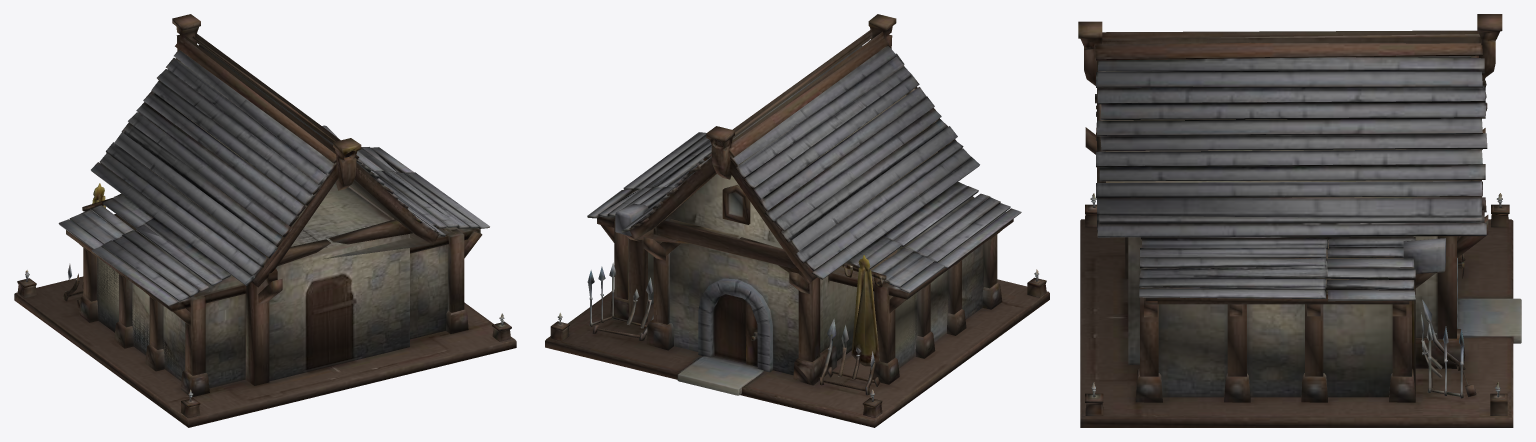
The model's file is barrosan_war_hall.glb.
3 views of the same model, side by side, from view 1: azimuth 30°, elevation 25°; view 2: azimuth 150°, elevation 25°; view 3: azimuth 270°, elevation 25° (orthographic). The views are drawn at different scales.
Size of the model in its own units: 2.49 by 1.8 by 2.35.
1 material, 1 textured.
